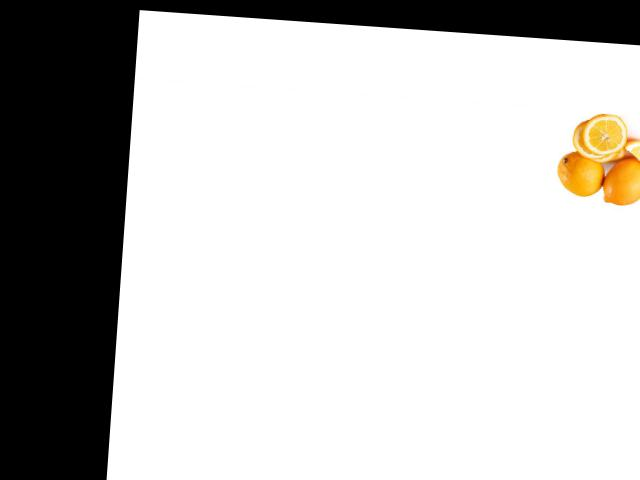lemon: (557, 152, 610, 198)
